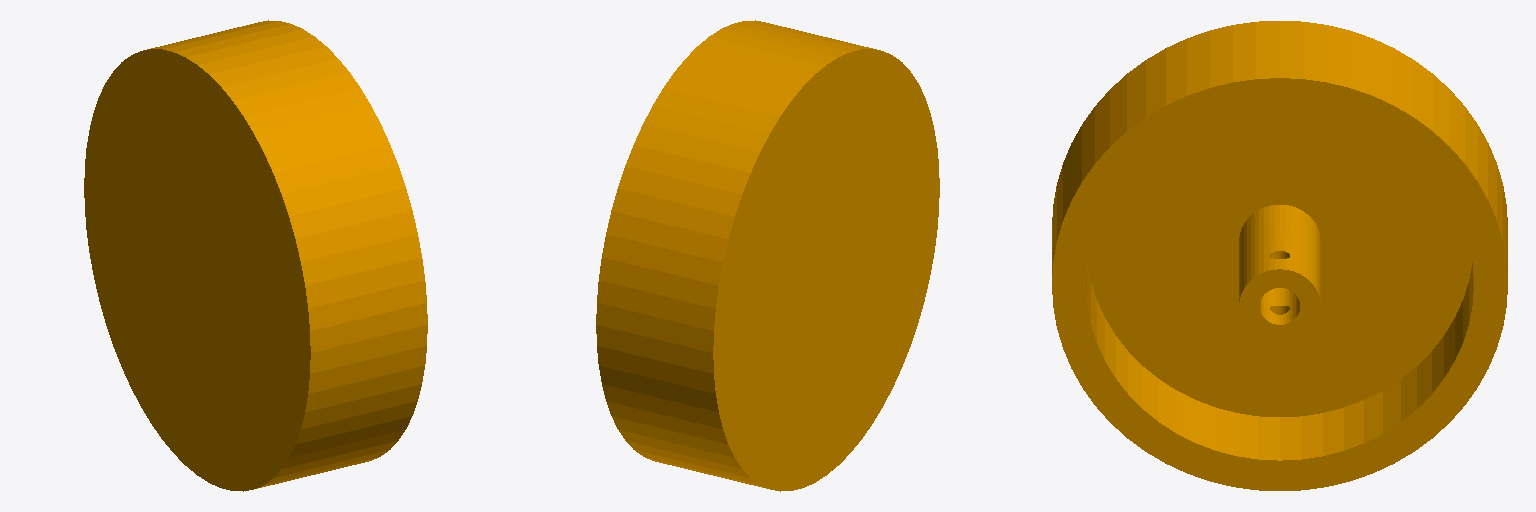
The robot description file, URDF, robot "kpbot":
<?xml version="1.0"?>
<robot name="kpbot" xmlns:xacro="http://www.ros.org/wiki/xacro">

    <link name="wheel_link">
        <visual>
            <geometry>
                <mesh filename="package://kpbot_description/models/meshes/wheel.stl"/>
            </geometry>
            <origin xyz="0 0 0" rpy="0 0 0" />
            <material name="black" />
        </visual>
        <collision>
            <geometry>
                <cylinder radius="0.05" length="0.03" />
            </geometry>
            <origin xyz="0 0 0" rpy="0 0 0" />
        </collision>
        <inertial>
            <mass value="0.5"/>
            <inertia ixx="0.01" iyy="0.01" izz="0.01" ixy="0" ixz="0" iyz="0"/>
            <origin xyz="0 0 0"/>
        </inertial>
    </link>

</robot>

--- Facts derived from the render (not from the file) ---
3 views of the same robot in one strip: view 1: azimuth 30°, elevation 25°; view 2: azimuth 150°, elevation 25°; view 3: azimuth 270°, elevation 25° (orthographic).
Robot: kpbot — 1 links, 0 joints (none); root link wheel_link; default pose: every joint at zero.
Visible links, largest first — view 1: wheel_link; view 2: wheel_link; view 3: wheel_link.
Boxes of the visible links, bbox=[...] form: wheel_link: bbox=[84, 20, 427, 491]; wheel_link: bbox=[596, 20, 939, 491]; wheel_link: bbox=[1052, 21, 1507, 490].
Size in the robot's own frame: 0.0275 by 0.067 by 0.067 metres.
1 mesh visuals loaded from 1 distinct referenced files (1 binary STL).